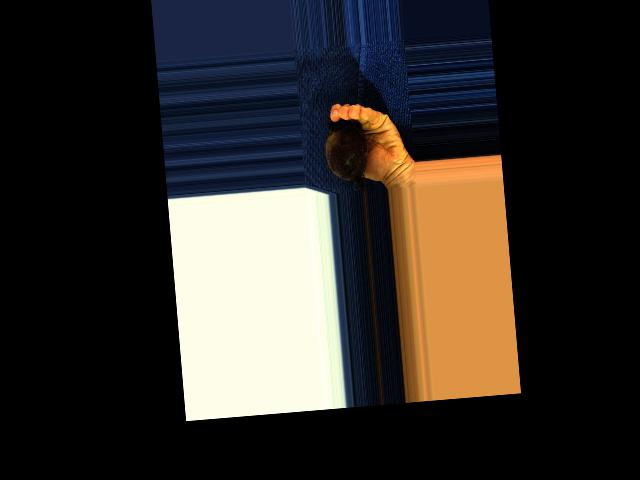beet: (323, 112, 372, 193)
